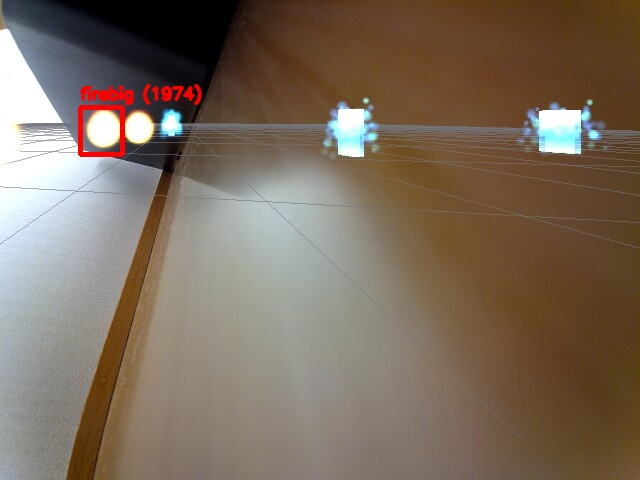firebig: (80, 107, 122, 154)
